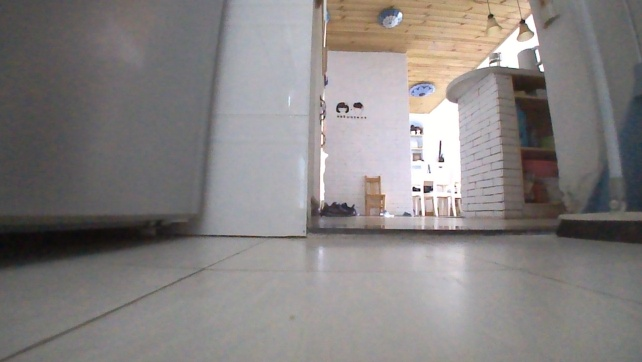refrigerator1: (0, 0, 225, 250)
shoe: (322, 199, 357, 217)
